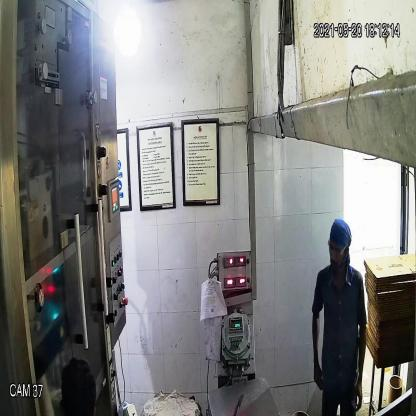goggles: (326, 236, 348, 259)
